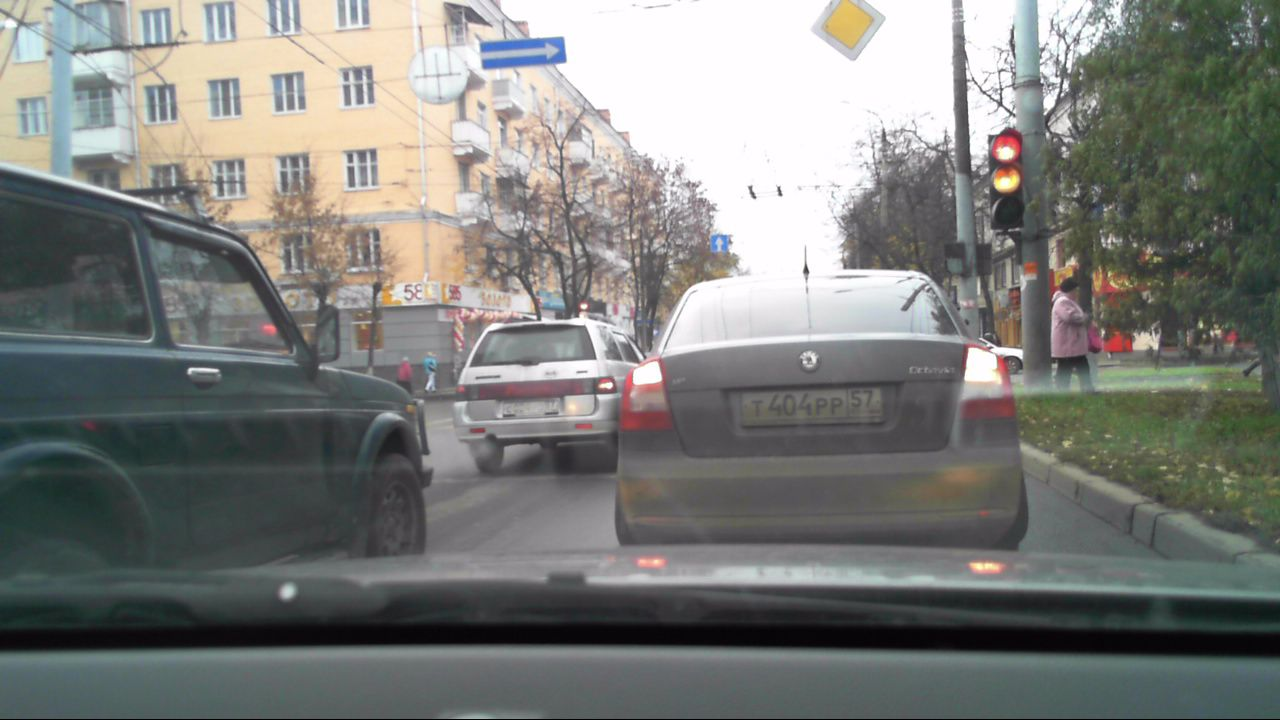One-Way Traffic: (481, 37, 565, 71)
